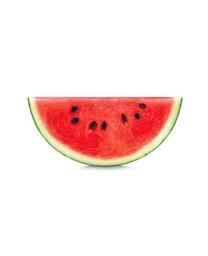watermelon: (26, 95, 187, 169)
